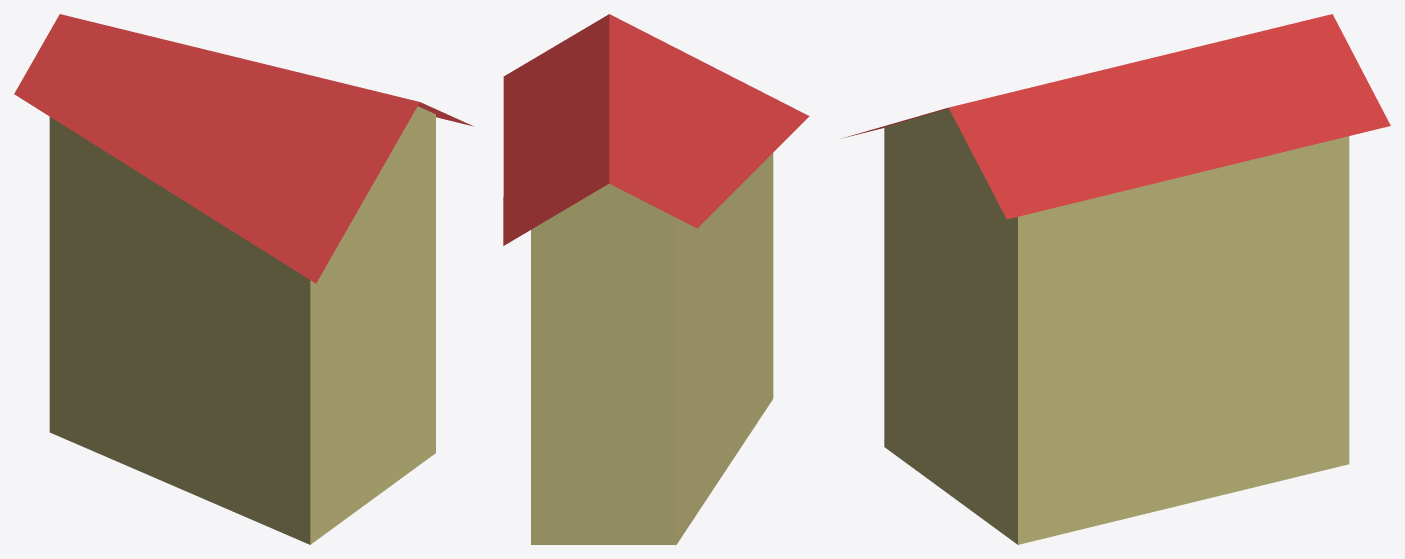
The picture shows the model from 3 angles, left to right: view 1: azimuth 30°, elevation 25°; view 2: azimuth 150°, elevation 25°; view 3: azimuth 270°, elevation 25°; orthographic projection. The views are drawn at different scales.
Size of the model in its own units: 6.71 by 9.11 by 7.49.
